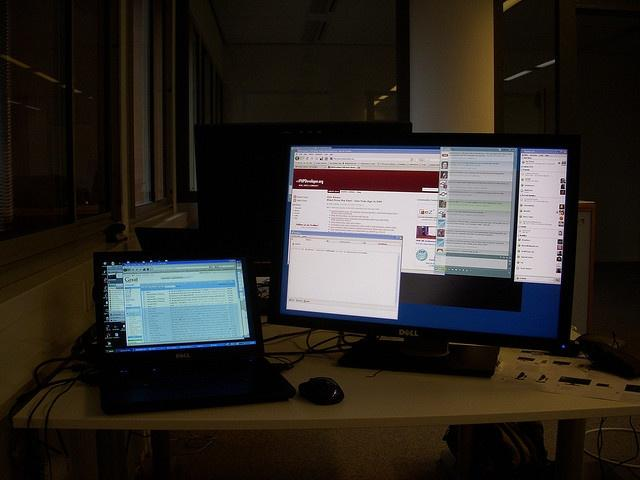AIO PC-Monitor-TV: (268, 131, 581, 355)
